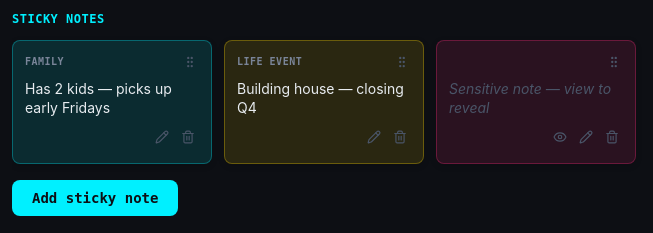
Test case: StickyNotesGrid › reveals sensitive note content when eye button is clicked
Click the button named "Reveal sensitive content" at (560, 138), box [549,126,571,151]
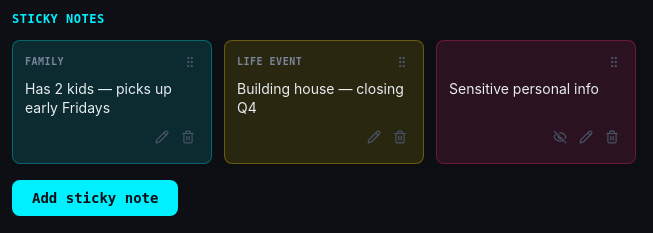
Now the text "Sensitive personal info" is shown, box [449,80,599,97]
